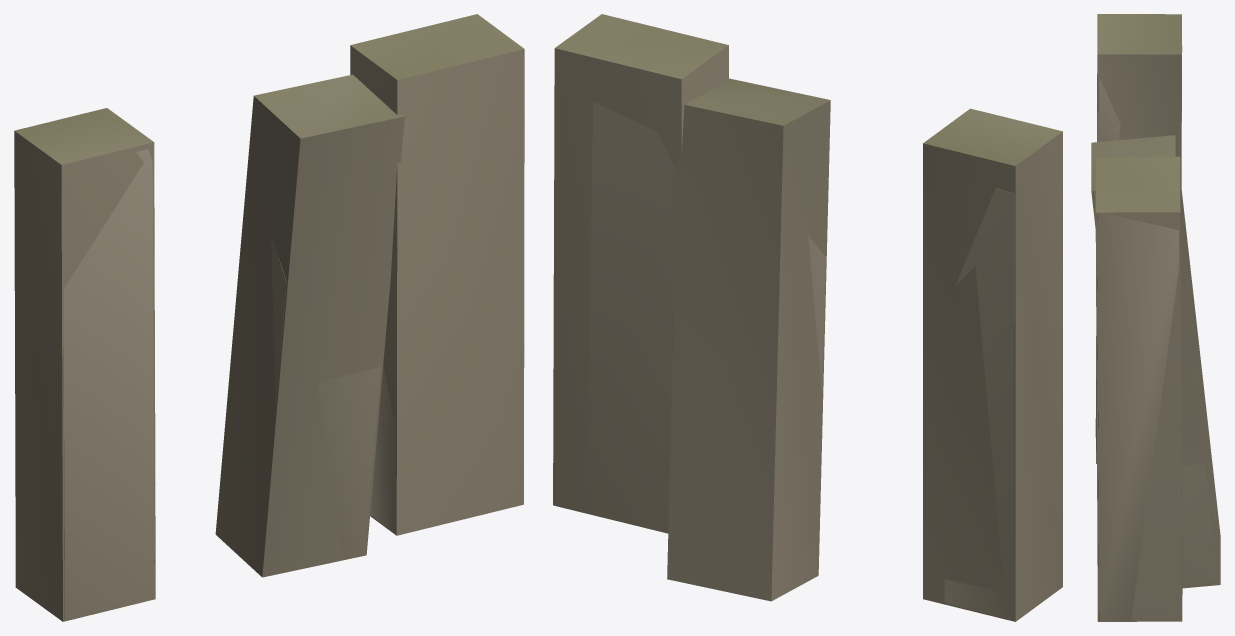
The model's file is tombs_step_broken.glb.
The picture shows the model from 3 angles, left to right: view 1: azimuth 30°, elevation 25°; view 2: azimuth 150°, elevation 25°; view 3: azimuth 270°, elevation 25°; orthographic projection. The views are drawn at different scales.
Parts seen in each view (by area): view 1: tombs_step_broken_far, tombs_step_broken; view 2: tombs_step_broken_far, tombs_step_broken; view 3: tombs_step_broken_far, tombs_step_broken.
Part boxes in pixels (x1,y1,x2,y2): tombs_step_broken_far: [14, 14, 524, 621]; tombs_step_broken: [63, 45, 522, 619]; tombs_step_broken_far: [553, 14, 1062, 621]; tombs_step_broken: [588, 14, 1014, 620]; tombs_step_broken_far: [1091, 14, 1220, 621]; tombs_step_broken: [1095, 45, 1218, 620].
Size of the model in its own units: 16.97 by 17.18 by 4.58.
